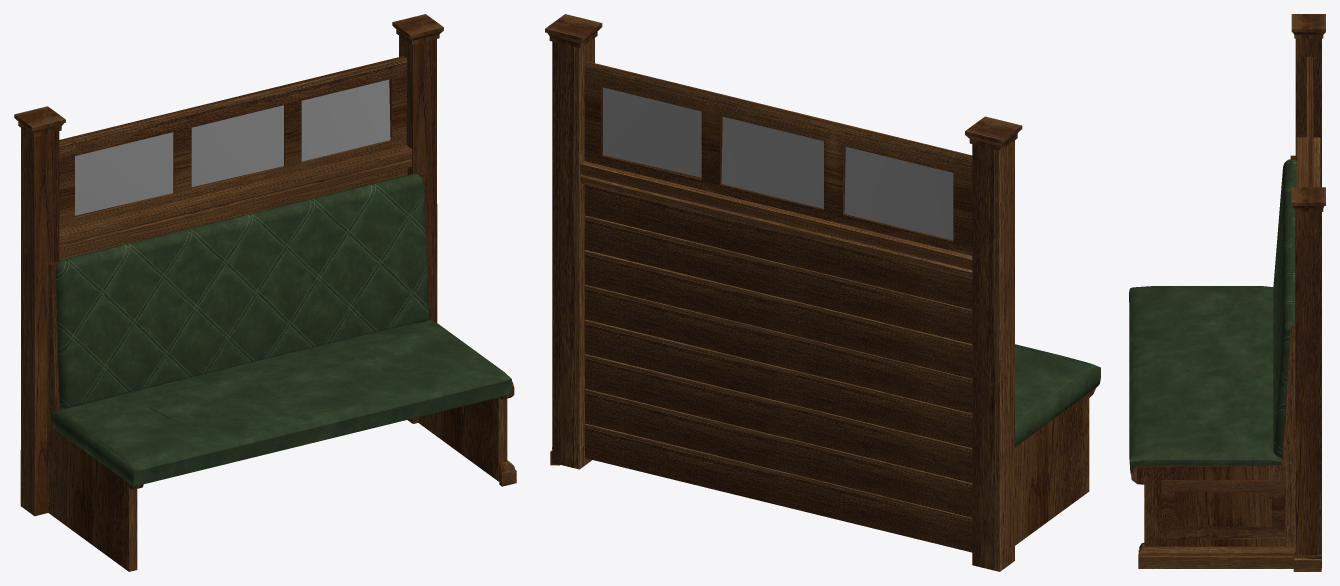
File: Furniture 2.FBX
3 renders of one model, left to right at view 1: azimuth 30°, elevation 25°; view 2: azimuth 150°, elevation 25°; view 3: azimuth 270°, elevation 25°, orthographic. The views are drawn at different scales.
Visible parts, largest first — view 1: Furniture 2; view 2: Furniture 2; view 3: Furniture 2.
Boxes of the visible parts, bbox=[...] form: Furniture 2: bbox=[14, 14, 516, 571]; Furniture 2: bbox=[545, 14, 1100, 571]; Furniture 2: bbox=[1129, 14, 1325, 571].
Bounding box in the file's own units: 168 × 153 × 73.78.
4 materials, 3 textured.
